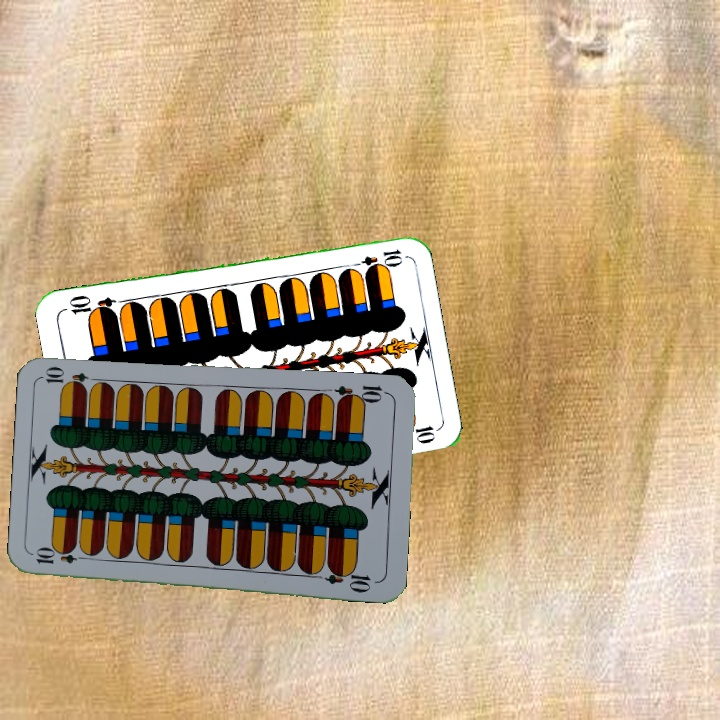E10: (346, 245, 405, 272), (332, 381, 391, 407), (32, 548, 91, 567)
